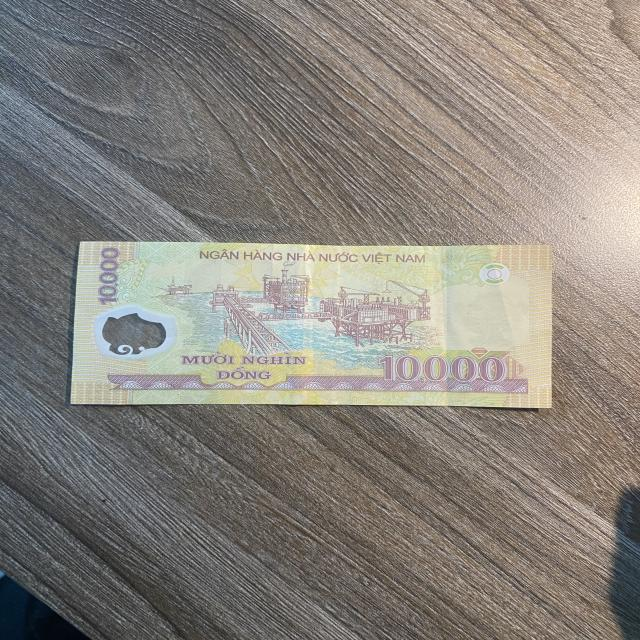10 000 VND: (67, 241, 555, 408)
